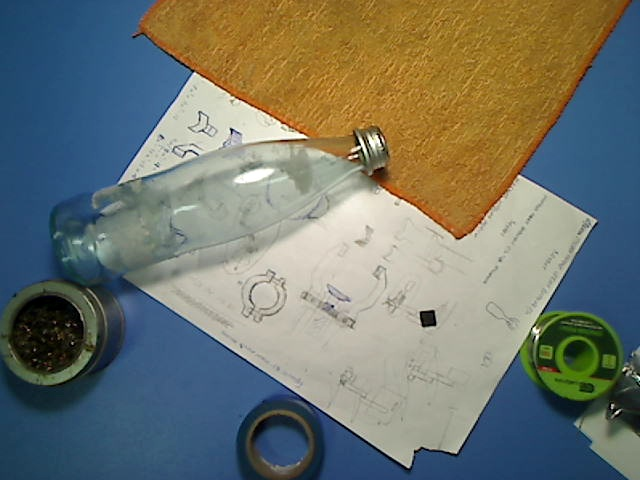bottle: (48, 124, 392, 287)
